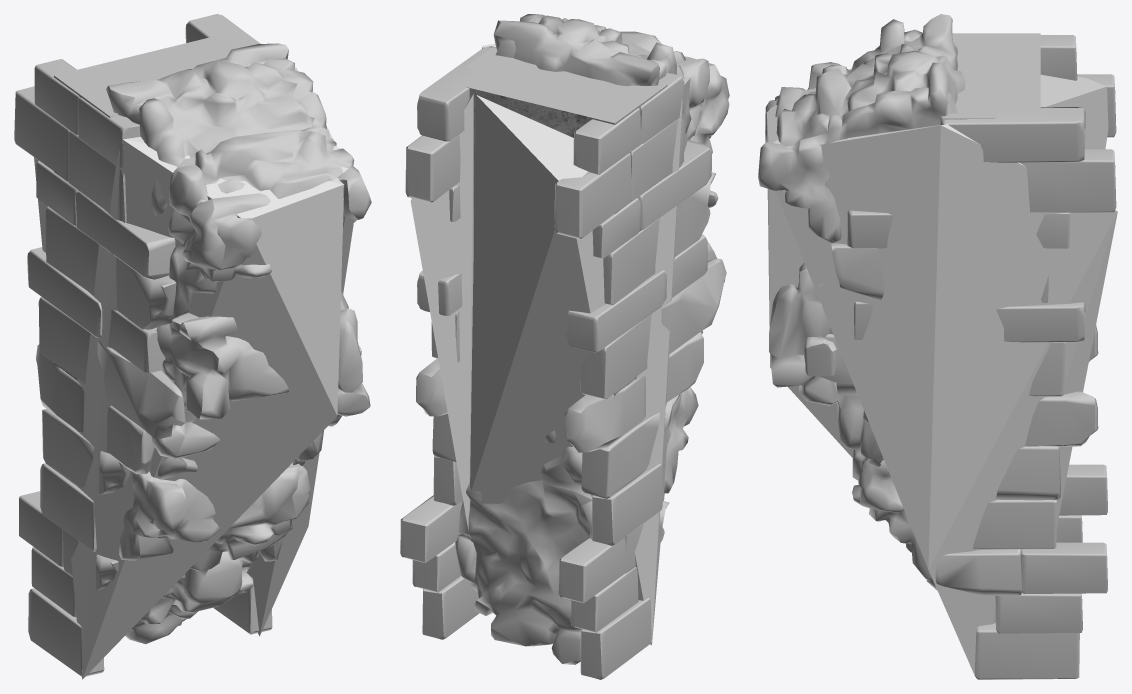
The model's file is SM_Wall_8x8_Broken_01h.fbx.
3 renders of one model, left to right at view 1: azimuth 30°, elevation 25°; view 2: azimuth 150°, elevation 25°; view 3: azimuth 270°, elevation 25°, orthographic. The views are drawn at different scales.
Parts seen in each view (by area): view 1: SM_Wall_8x8_Broken_01h_LOD0, SM_Wall_8x8_Broken_01h_ConvexHulls; view 2: SM_Wall_8x8_Broken_01h_LOD0, SM_Wall_8x8_Broken_01h_ConvexHulls; view 3: SM_Wall_8x8_Broken_01h_LOD0, SM_Wall_8x8_Broken_01h_ConvexHulls.
Part boxes in pixels (left/top/right/bottom): SM_Wall_8x8_Broken_01h_LOD0: left=14, top=14, right=371, bottom=676; SM_Wall_8x8_Broken_01h_ConvexHulls: left=34, top=67, right=354, bottom=679; SM_Wall_8x8_Broken_01h_LOD0: left=400, top=14, right=729, bottom=679; SM_Wall_8x8_Broken_01h_ConvexHulls: left=410, top=44, right=690, bottom=645; SM_Wall_8x8_Broken_01h_LOD0: left=758, top=14, right=1116, bottom=679; SM_Wall_8x8_Broken_01h_ConvexHulls: left=766, top=68, right=1117, bottom=675.
Bounding box in the file's own units: 232 × 356 × 648.
